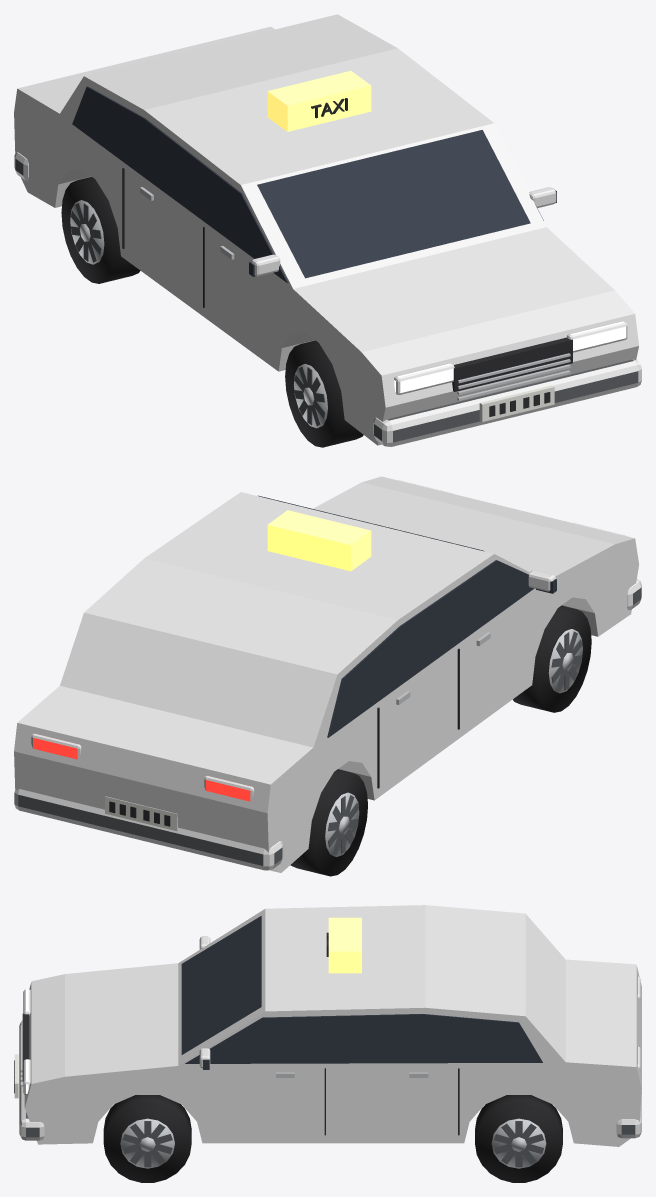
The model's file is taxi.gltf.
The picture shows the model from 3 angles, top to bottom: view 1: azimuth 30°, elevation 25°; view 2: azimuth 150°, elevation 25°; view 3: azimuth 270°, elevation 25°; orthographic projection. The views are drawn at different scales.
Visible parts, largest first — view 1: taxi, Wheel3, Wheel1; view 2: taxi, Wheel1, Wheel3; view 3: taxi, Wheel0, Wheel2.
Boxes of the visible parts, x1=… form: taxi: x1=14, y1=14, x2=641, y2=446; Wheel3: x1=61, y1=176, x2=140, y2=283; Wheel1: x1=285, y1=340, x2=363, y2=447; taxi: x1=14, y1=476, x2=641, y2=872; Wheel1: x1=513, y1=605, x2=591, y2=712; Wheel3: x1=290, y1=769, x2=367, y2=876; taxi: x1=14, y1=905, x2=641, y2=1146; Wheel0: x1=103, y1=1095, x2=191, y2=1182; Wheel2: x1=475, y1=1095, x2=562, y2=1182.
Size of the model in its own units: 0.436 by 0.3253 by 0.9404.
Materials: 10 (1 with a texture image).
